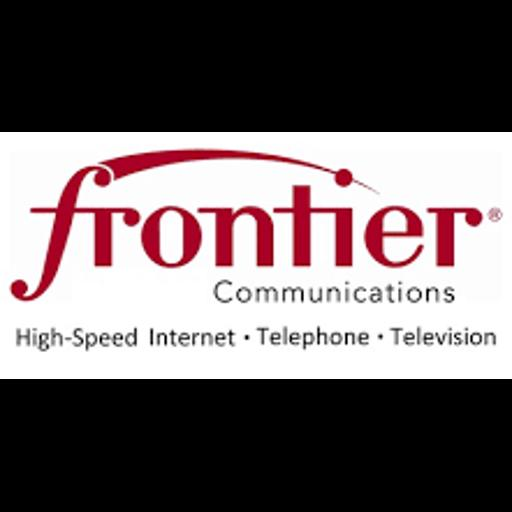Frontier Communications: (0, 132, 512, 379)
